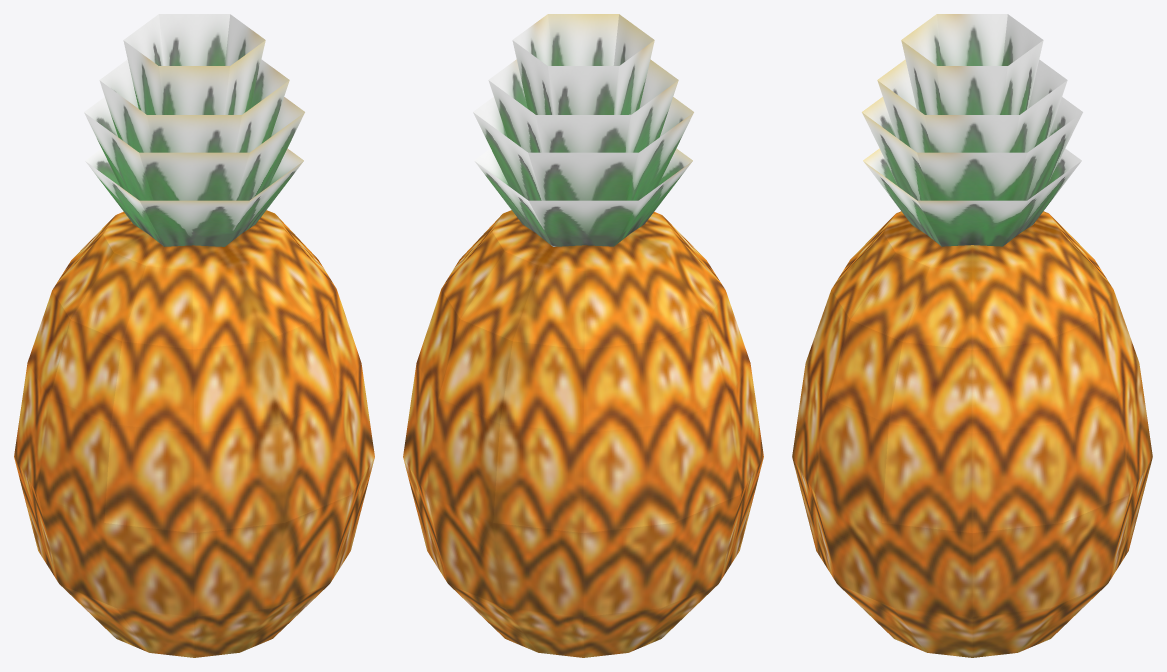
The model's file is pinapple.gltf.
The picture shows the model from 3 angles, left to right: view 1: azimuth 30°, elevation 25°; view 2: azimuth 150°, elevation 25°; view 3: azimuth 270°, elevation 25°; orthographic projection.
Parts seen in each view (by area): view 1: fruis_and_vegetables.011; view 2: fruis_and_vegetables.011; view 3: fruis_and_vegetables.011.
Boxes of the visible parts, box(x1,y1,x2,y2) form: fruis_and_vegetables.011: box(14, 14, 374, 657); fruis_and_vegetables.011: box(403, 14, 763, 657); fruis_and_vegetables.011: box(792, 14, 1152, 657).
Size of the model in its own units: 0.2196 by 0.3968 by 0.2196.
Materials: 1 (1 with a texture image).
